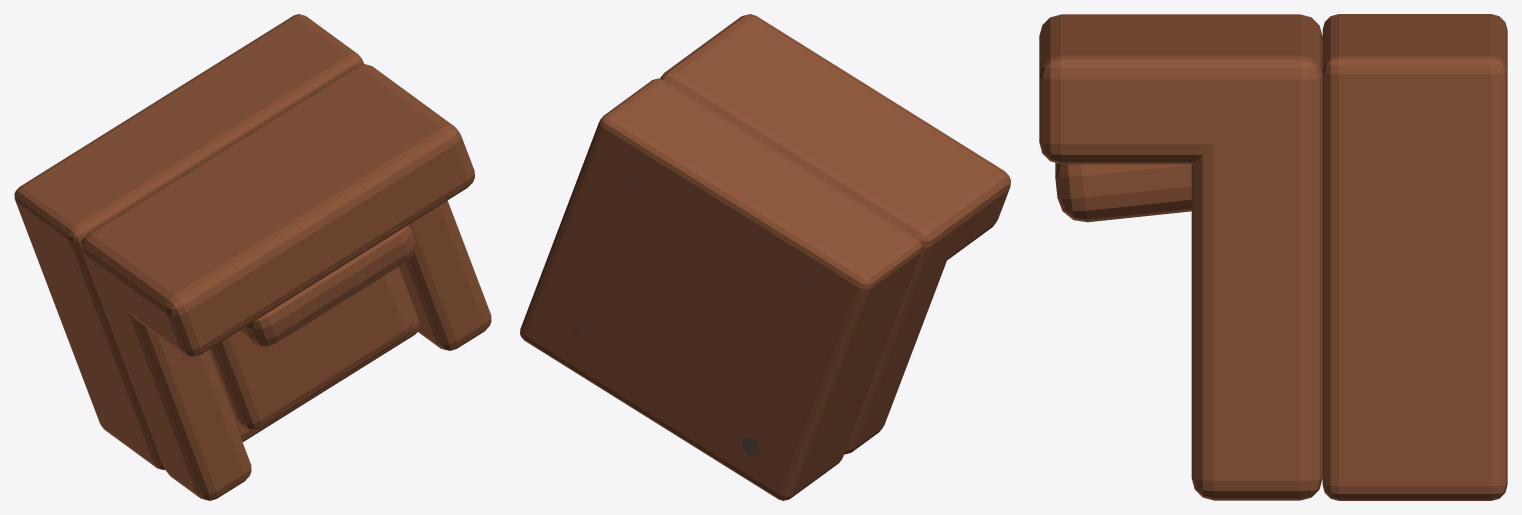
File: lounge_armchair_1.glb
The picture shows the model from 3 angles, left to right: view 1: azimuth 30°, elevation 25°; view 2: azimuth 150°, elevation 25°; view 3: azimuth 270°, elevation 25°; orthographic projection. The views are drawn at different scales.
Visible parts, largest first — view 1: armchair1_back, armchair1_base, armchair1_arm, armchair1_seatpad0, armchair1_arm.001, armchair1_cushion0, armchair1_seat; view 2: armchair1_base, armchair1_back, armchair1_arm; view 3: armchair1_base, armchair1_arm.001, armchair1_back, armchair1_cushion0, armchair1_arm.
Part boxes in pixels (x1=…): armchair1_back: x1=113, y1=63, x2=474, y2=356; armchair1_base: x1=14, y1=14, x2=363, y2=470; armchair1_arm: x1=81, y1=215, x2=251, y2=500; armchair1_seatpad0: x1=210, y1=270, x2=412, y2=430; armchair1_arm.001: x1=366, y1=64, x2=491, y2=350; armchair1_cushion0: x1=239, y1=225, x2=415, y2=346; armchair1_seat: x1=208, y1=267, x2=420, y2=441; armchair1_base: x1=520, y1=78, x2=921, y2=500; armchair1_back: x1=667, y1=14, x2=1010, y2=260; armchair1_arm: x1=844, y1=192, x2=959, y2=454; armchair1_base: x1=1322, y1=14, x2=1507, y2=500; armchair1_arm.001: x1=1191, y1=56, x2=1322, y2=500; armchair1_back: x1=1039, y1=14, x2=1322, y2=164; armchair1_cushion0: x1=1055, y1=162, x2=1191, y2=222; armchair1_arm: x1=1213, y1=14, x2=1322, y2=39.
Size of the model in its own units: 1.16 by 1.08 by 0.86.
